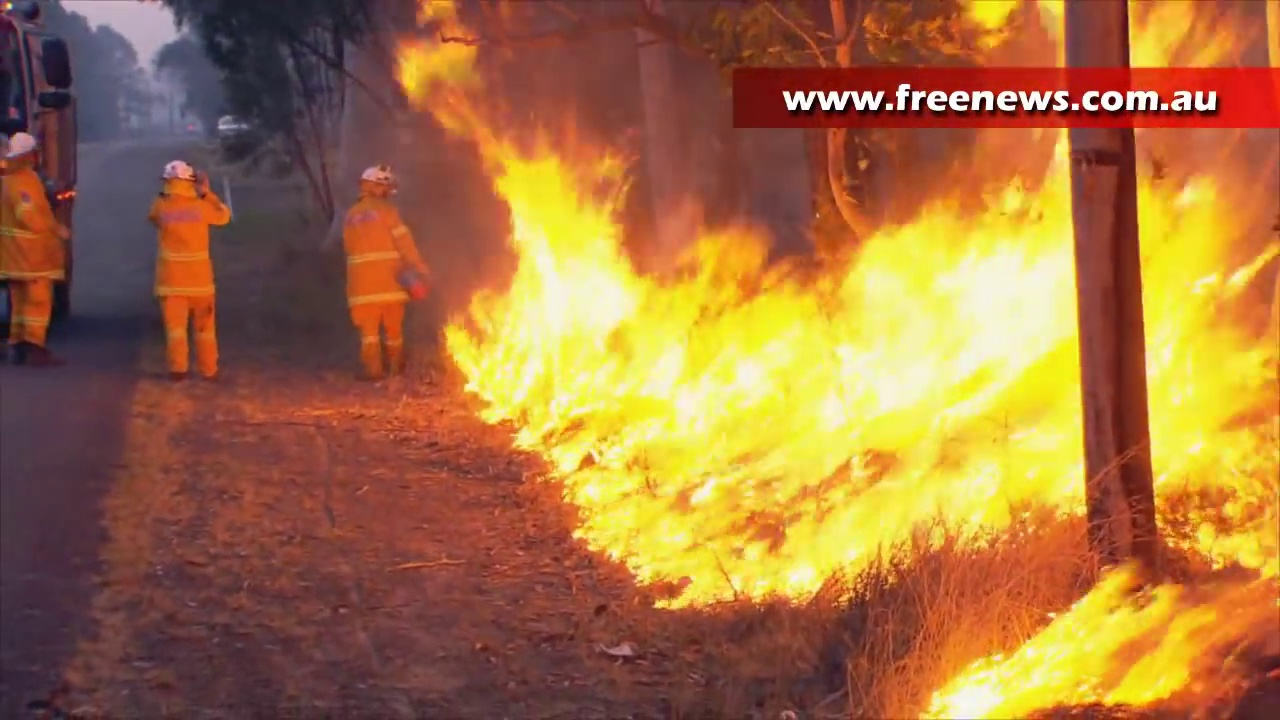fire: (450, 129, 1081, 583), (1137, 138, 1280, 575), (926, 581, 1214, 717), (388, 7, 478, 110), (1129, 3, 1247, 65), (963, 2, 1021, 27)
